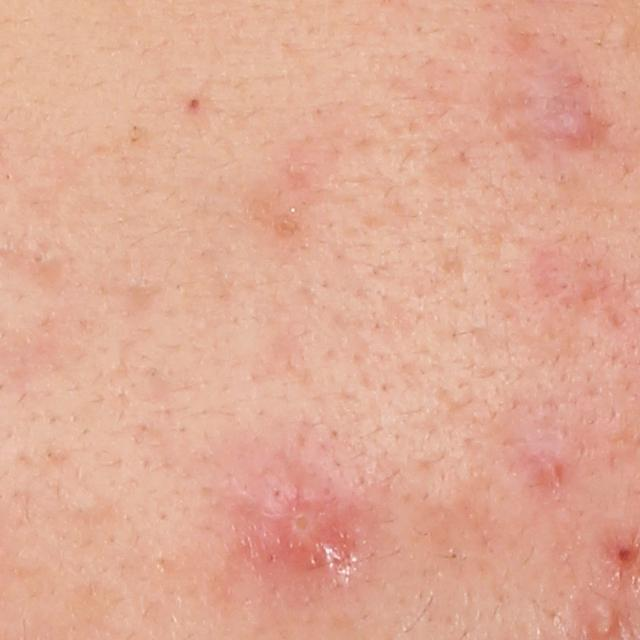papule: (537, 96, 597, 147), (536, 453, 564, 489), (612, 539, 640, 571)
pustule: (283, 508, 347, 561)
